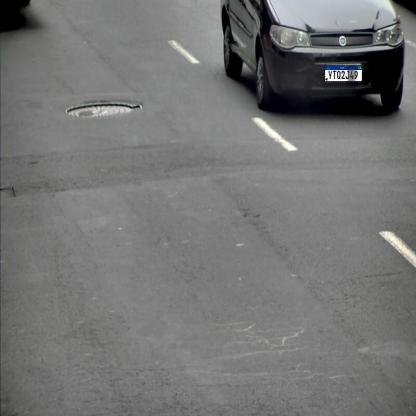PlacaM: (324, 65, 362, 82)
